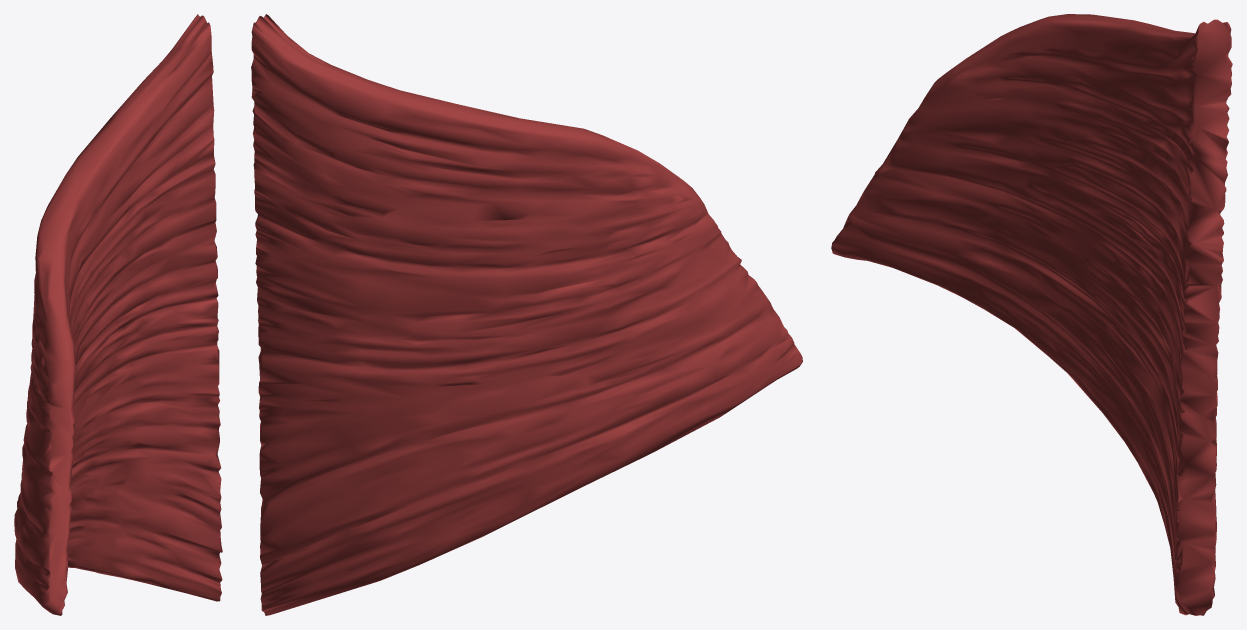
The model's file is superior-pharyngeal-constrictor-r.glb.
3 renders of one model, left to right at view 1: azimuth 30°, elevation 25°; view 2: azimuth 150°, elevation 25°; view 3: azimuth 270°, elevation 25°, orthographic. The views are drawn at different scales.
Visible parts, largest first — view 1: Superior pharyngeal constrictor.r; view 2: Superior pharyngeal constrictor.r; view 3: Superior pharyngeal constrictor.r.
Boxes of the visible parts, x1,y1,x2,y2 form: Superior pharyngeal constrictor.r: (14, 14, 222, 615); Superior pharyngeal constrictor.r: (251, 14, 802, 615); Superior pharyngeal constrictor.r: (831, 14, 1232, 615).
Size of the model in its own units: 0.033 by 0.0536 by 0.0327.
